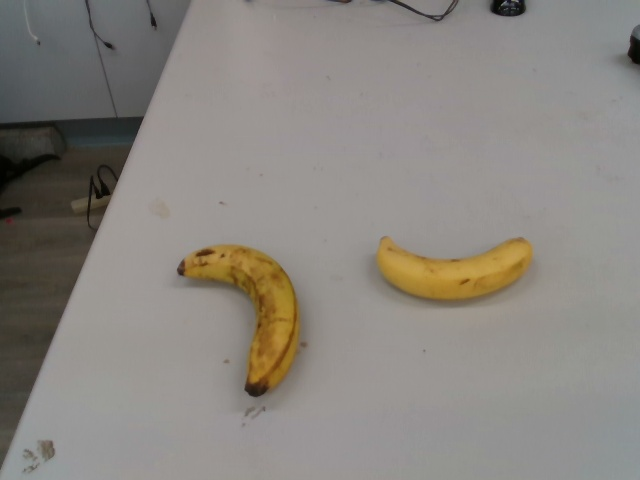banana: (174, 242, 299, 399), (372, 236, 537, 303)
